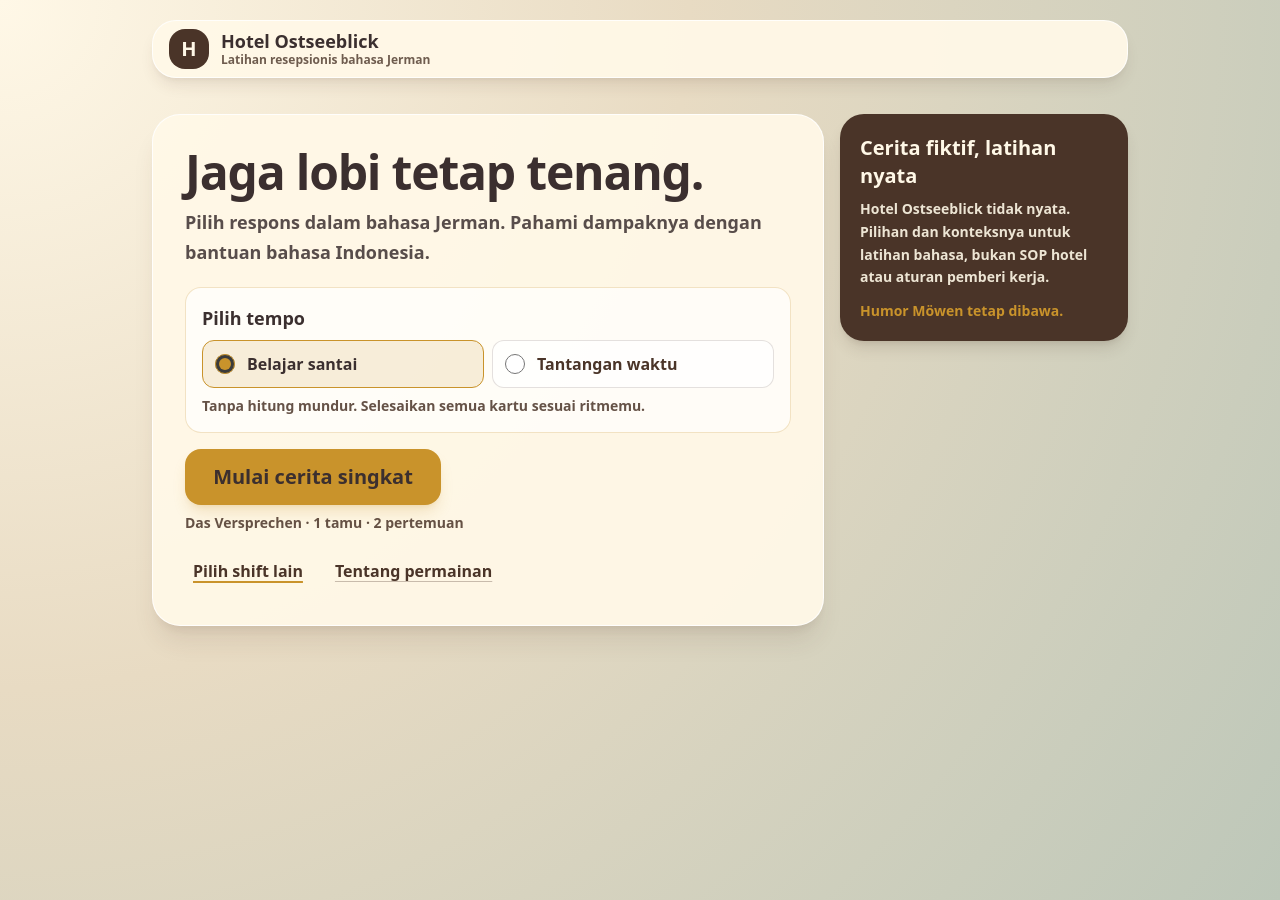
Test: App › shows the selected German response, curated reason, and actual clamped deltas
Step 1. Click the button "Mulai cerita singkat" → x=313, y=477, box [185,449,441,505]
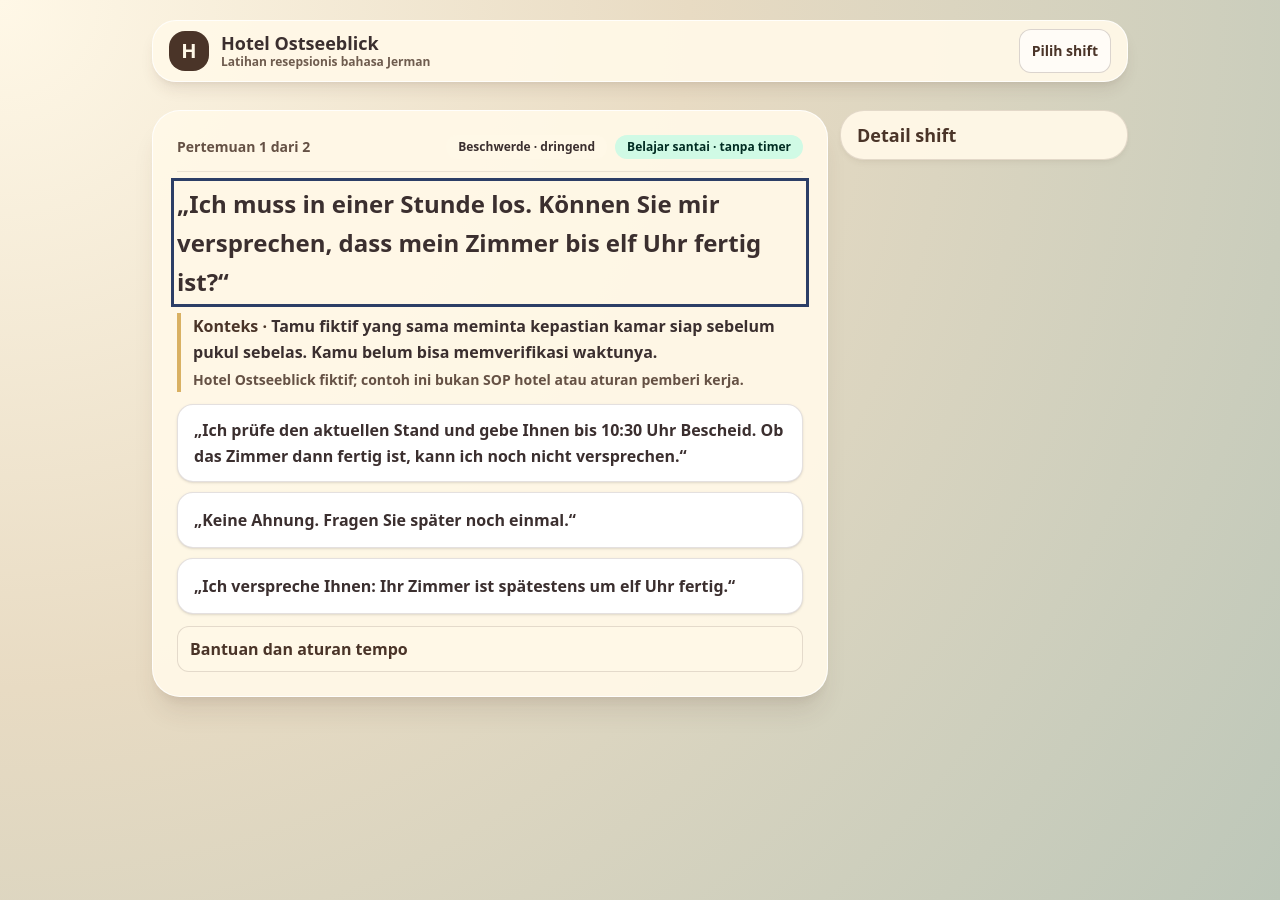
Step 2. Click the 2nd button → x=490, y=443, box [177,404,803,482]
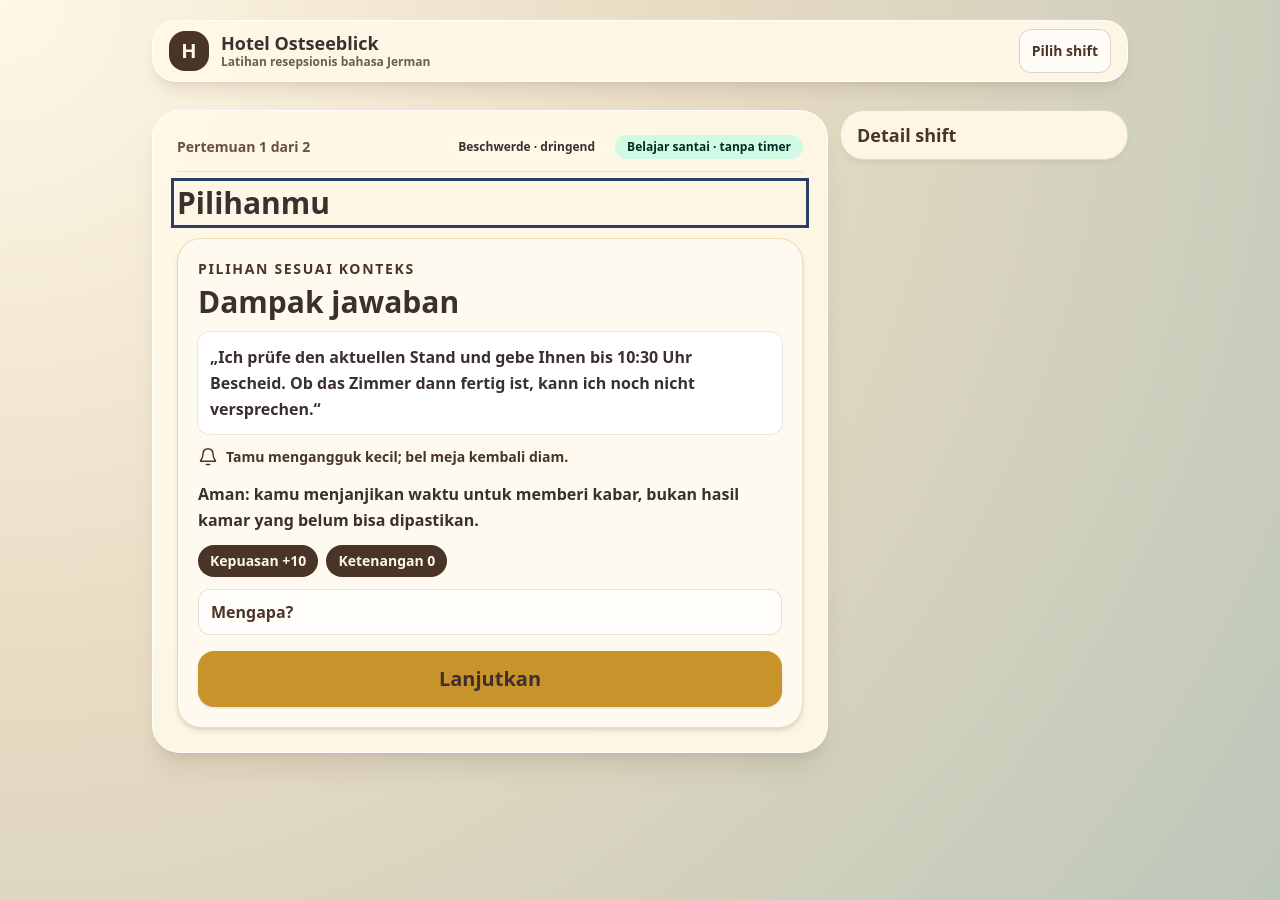
Expected: the heading "Pilihanmu" is shown, [177,182,330,223]
Expected: the heading "Dampak jawaban" is shown, [198,280,459,322]
Expected: the element with test id "guest-reaction" reads "Tamu mengangguk kecil; bel meja kembali diam.", [226,447,568,466]
